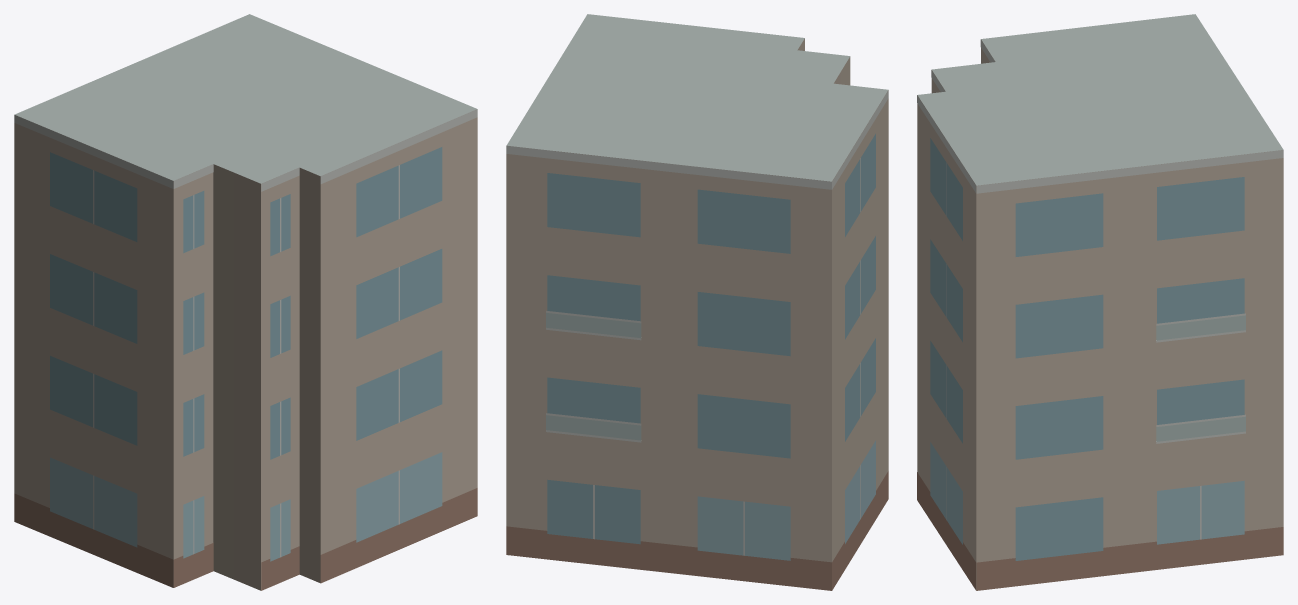
File: residential-ad974023-ac48-4338-920c-b5b6b770650c.glb
The picture shows the model from 3 angles, left to right: view 1: azimuth 30°, elevation 25°; view 2: azimuth 150°, elevation 25°; view 3: azimuth 270°, elevation 25°; orthographic projection.
Parts seen in each view (by area): view 1: residential-ad974023-ac48-4338-920c-b5b6b770650c.tmp; view 2: residential-ad974023-ac48-4338-920c-b5b6b770650c.tmp; view 3: residential-ad974023-ac48-4338-920c-b5b6b770650c.tmp.
Boxes of the visible parts, x1,y1,x2,y2 form: residential-ad974023-ac48-4338-920c-b5b6b770650c.tmp: (14,14,477,590); residential-ad974023-ac48-4338-920c-b5b6b770650c.tmp: (506,14,888,590); residential-ad974023-ac48-4338-920c-b5b6b770650c.tmp: (917,14,1283,590).
Size of the model in its own units: 11.09 by 12.2 by 10.01.
